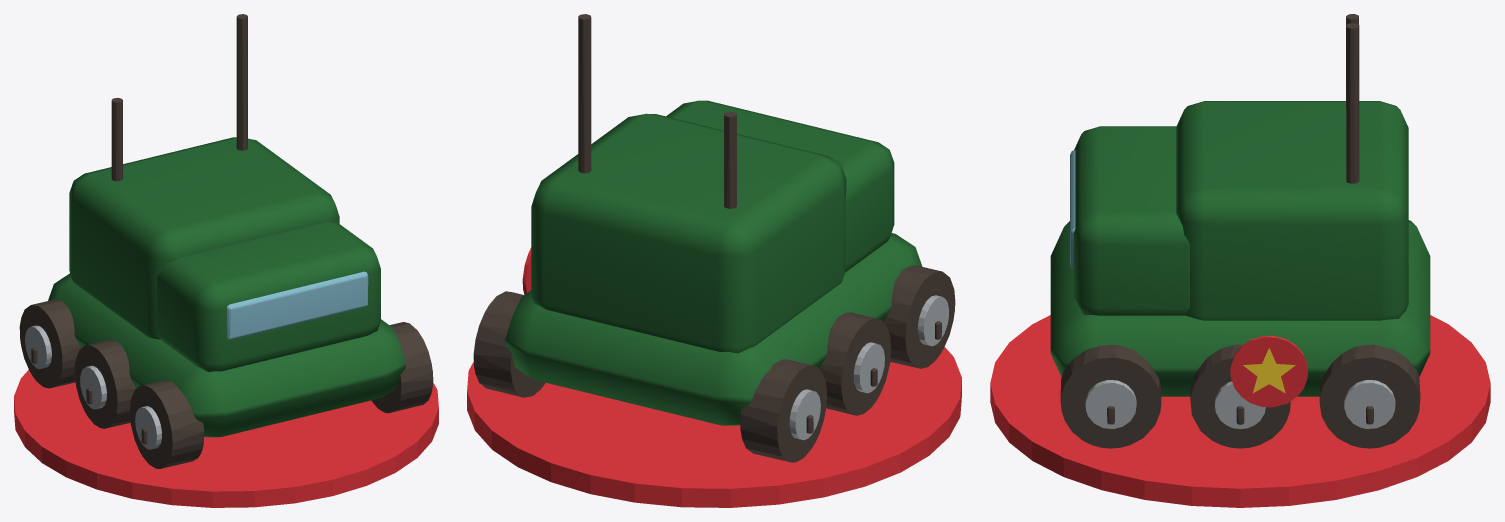
File: vietnam_headquarters_lod0.glb
3 views of the same model, side by side, from view 1: azimuth 30°, elevation 25°; view 2: azimuth 150°, elevation 25°; view 3: azimuth 270°, elevation 25° (orthographic). The views are drawn at different scales.
Visible parts, largest first — view 1: body_hull, base_pedestal; view 2: body_hull, base_pedestal; view 3: body_hull, base_pedestal.
Part boxes in pixels (x1,y1,x2,y2): body_hull: (19,14,433,468); base_pedestal: (14,370,438,507); body_hull: (473,14,955,462); base_pedestal: (467,347,961,507); body_hull: (1050,14,1430,448); base_pedestal: (990,315,1490,507).
Size of the model in its own units: 0.78 by 0.7101 by 0.78.
